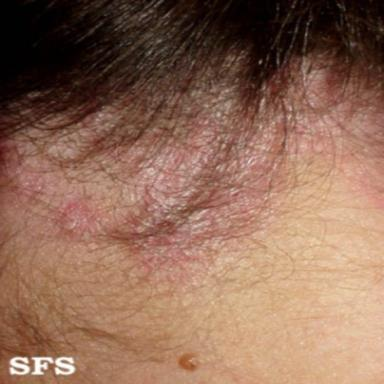Psoriasis: (0, 60, 384, 297), (53, 195, 103, 236), (93, 103, 123, 135)
